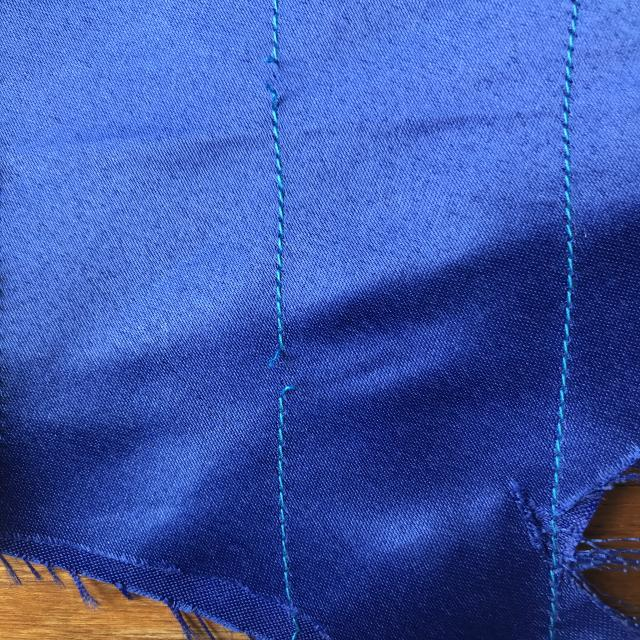broken: (251, 322, 315, 417), (244, 38, 310, 122)
good: (256, 173, 306, 280)
